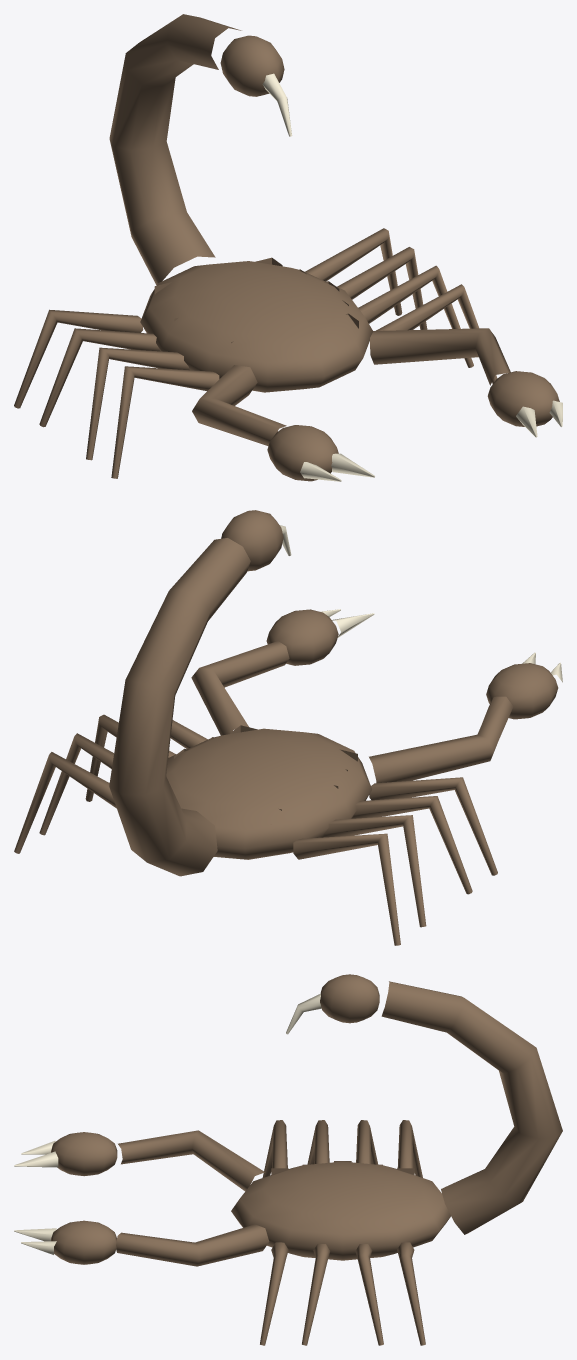
The model's file is scorpion.glb.
3 renders of one model, top to bottom at view 1: azimuth 30°, elevation 25°; view 2: azimuth 150°, elevation 25°; view 3: azimuth 270°, elevation 25°, orthographic. The views are drawn at different scales.
Bounding box in the file's own units: 1.05 × 0.9227 × 1.57.
